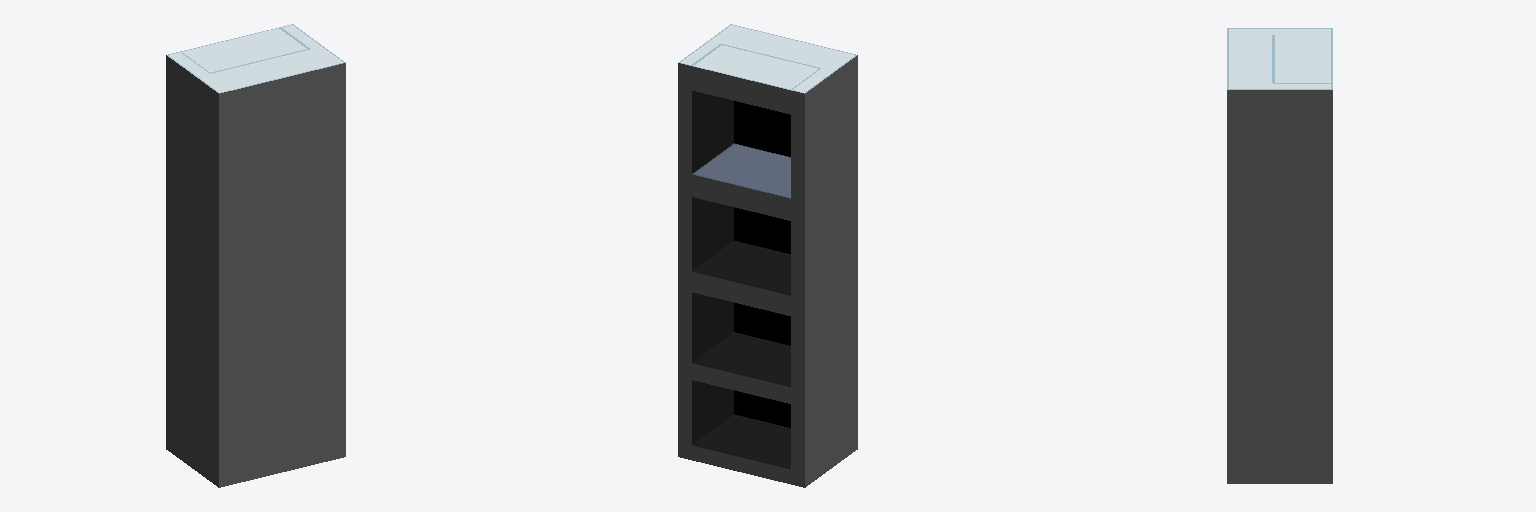
3 views of the same model, side by side, from view 1: azimuth 30°, elevation 25°; view 2: azimuth 150°, elevation 25°; view 3: azimuth 270°, elevation 25° (orthographic).
Visible parts, largest first — view 1: cuboid; view 2: cuboid; view 3: cuboid.
Boxes of the visible parts, x1,y1,x2,y2 form: cuboid: [166, 24, 345, 487]; cuboid: [678, 24, 857, 487]; cuboid: [1227, 28, 1332, 483].
Size of the model in its own units: 5.88 by 17.44 by 4.25.
Materials: 1 (1 with a texture image).